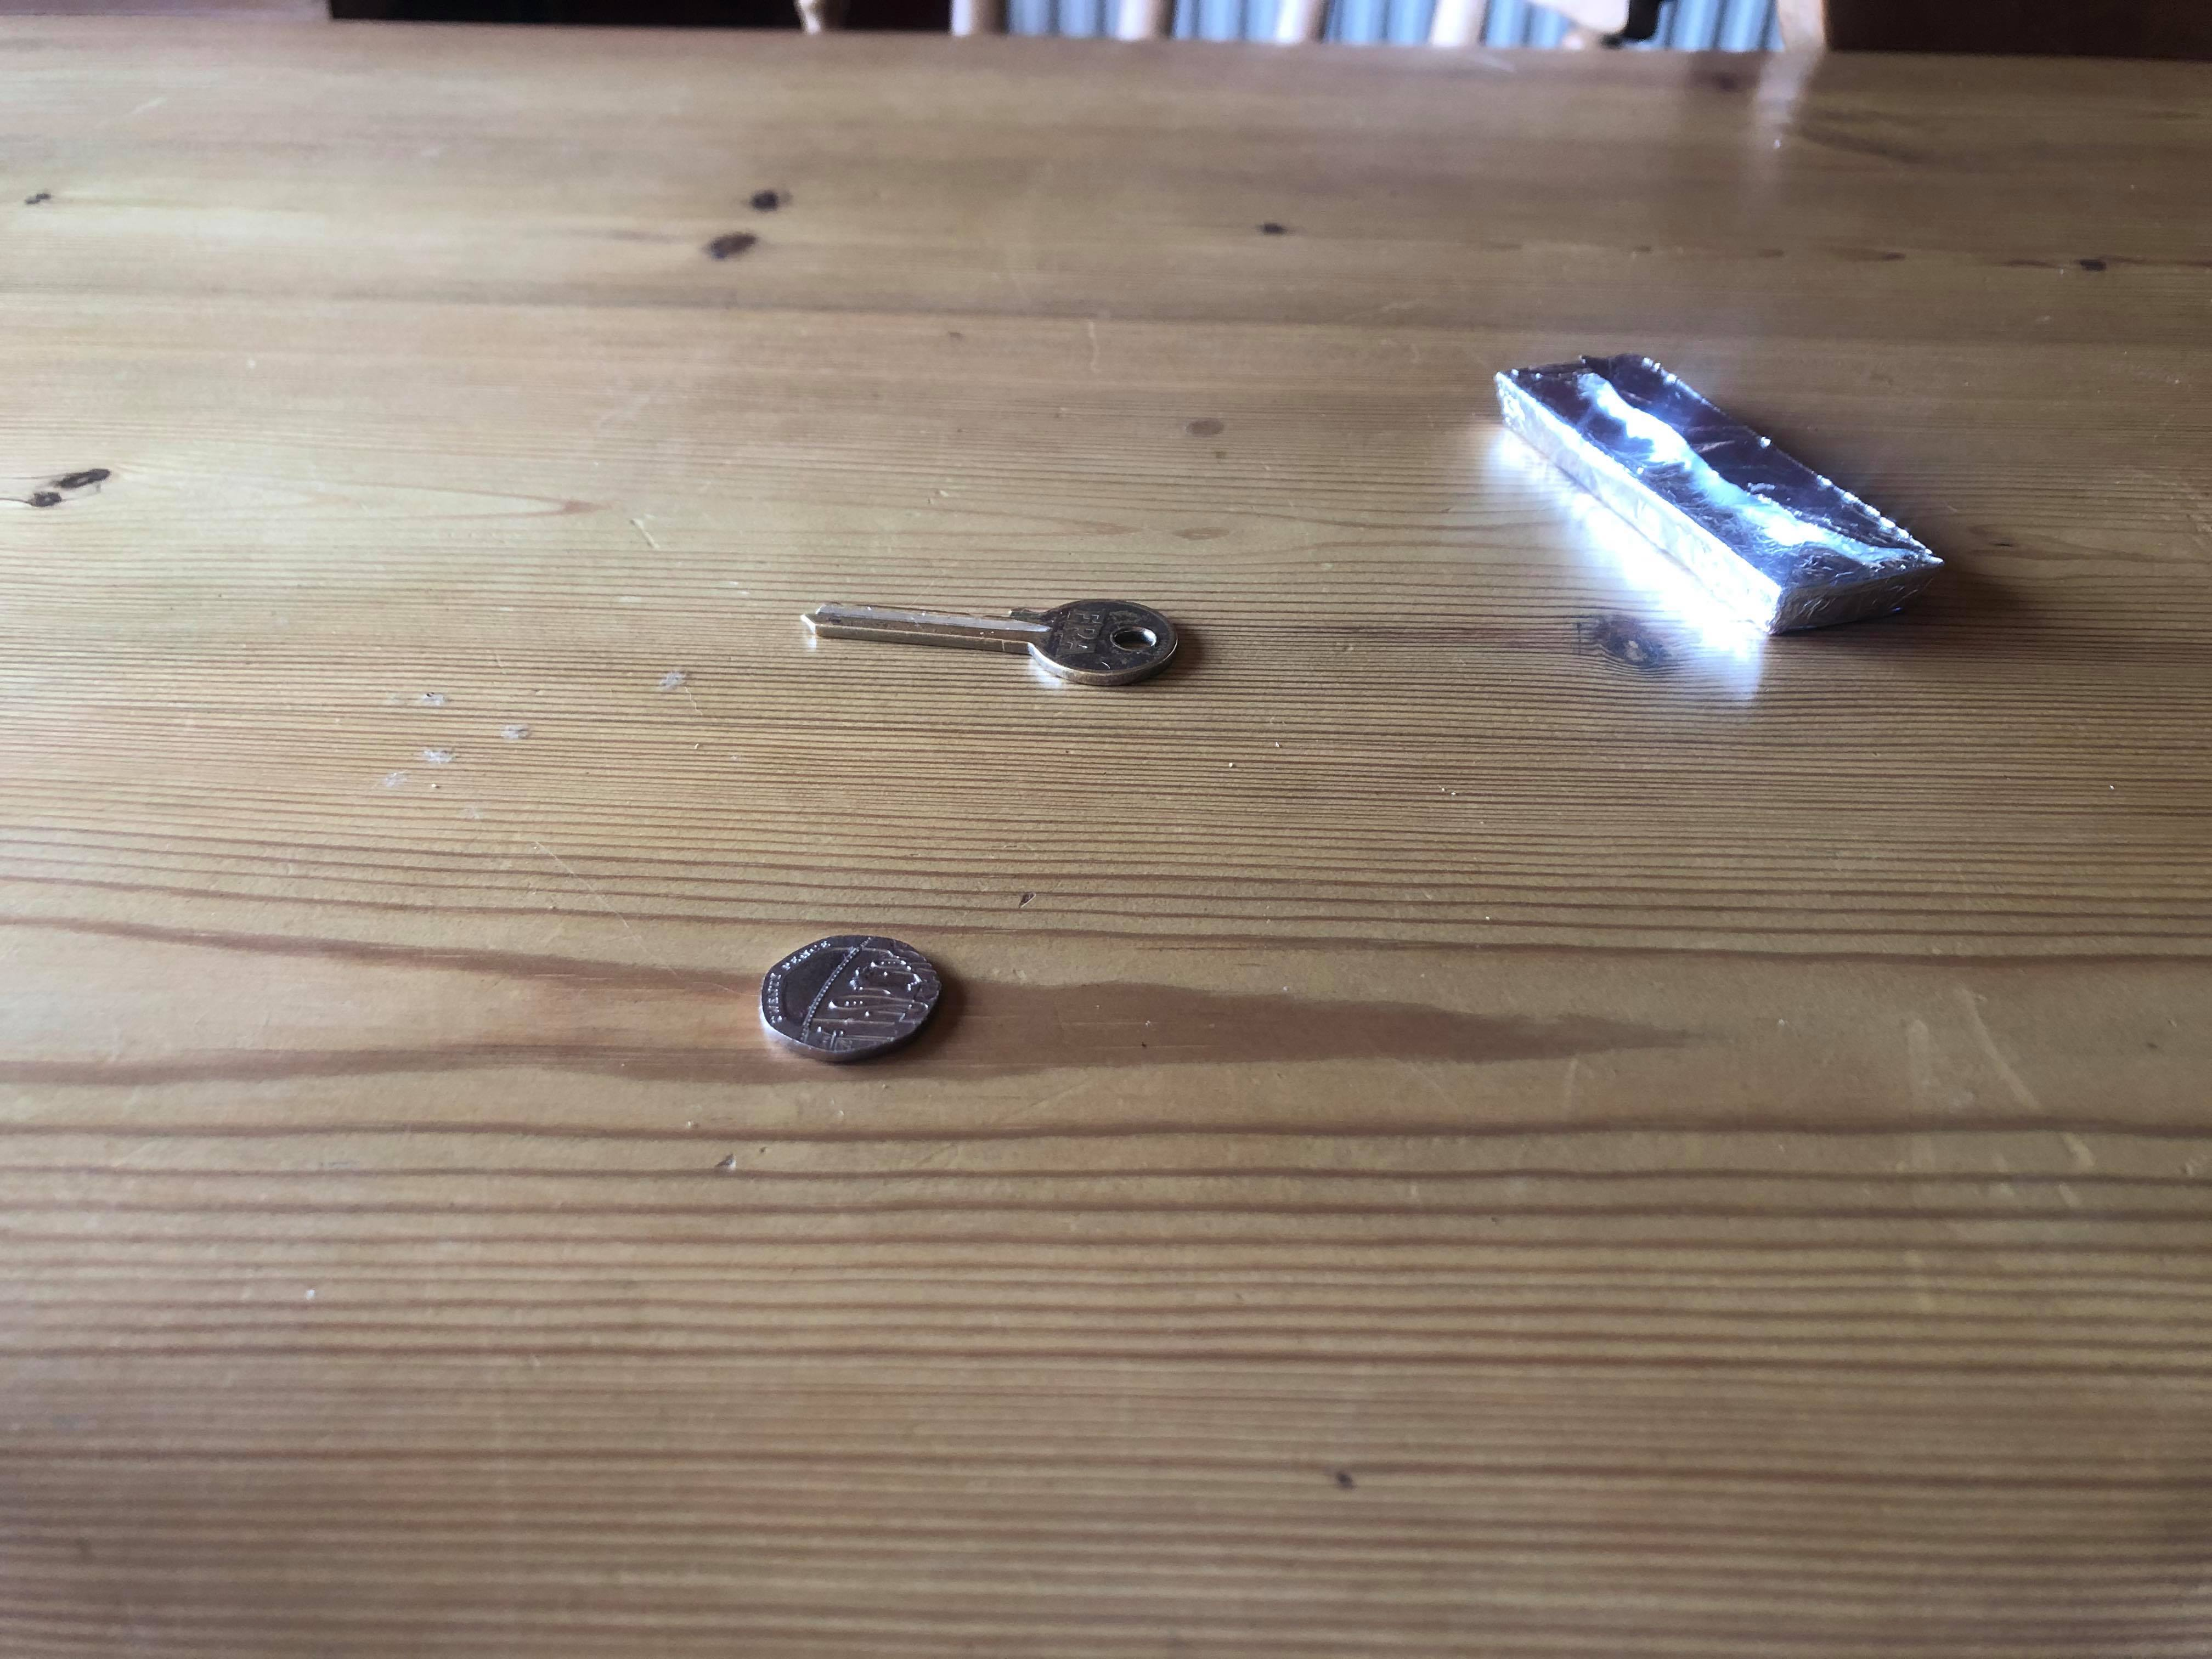Coin: (752, 925, 948, 1060)
Foil: (1482, 343, 1952, 641)
Key: (798, 587, 1186, 697)
